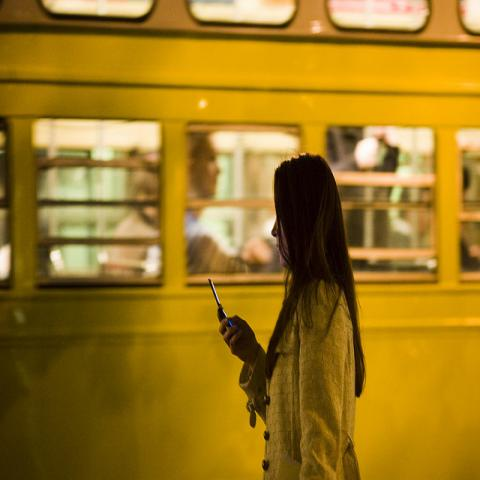bus: (3, 0, 479, 479)
